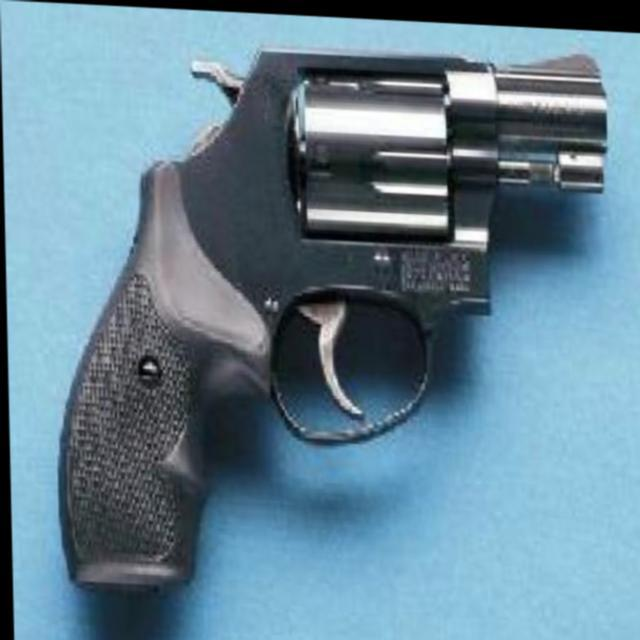weapon: (45, 20, 618, 613)
